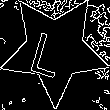L_N: (33, 21, 76, 78)
